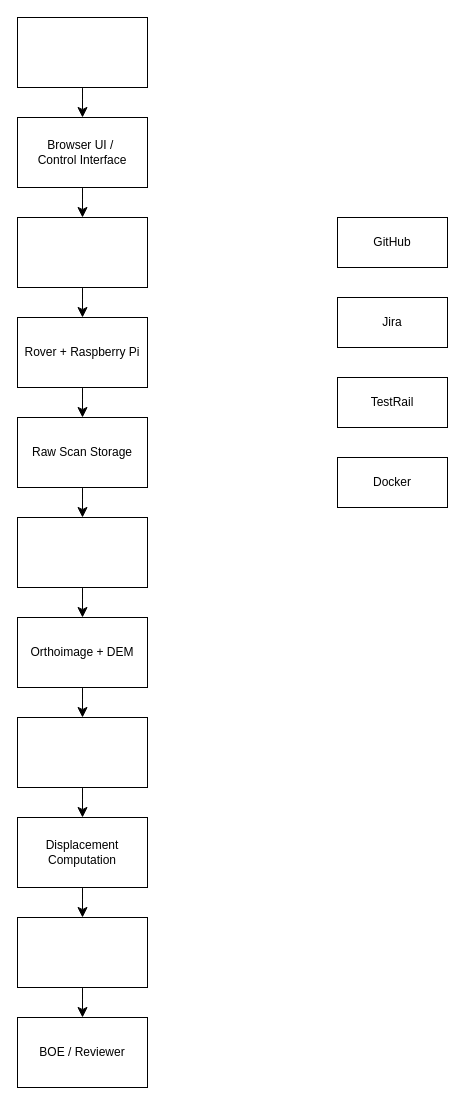
The diagram is 465 pixels wide and 1105 high, and some of its shapes have lost their labels. Each missing label, with the box of its shape:
CSV + Image Reports: (16, 916, 148, 988)
PointCloud2OrthoImage: (16, 516, 148, 588)
Sensors + iPhone LiDAR + GPS: (16, 216, 148, 288)
U-Net Segmentation: (16, 716, 148, 788)
User / Rover Operator: (16, 16, 148, 88)
